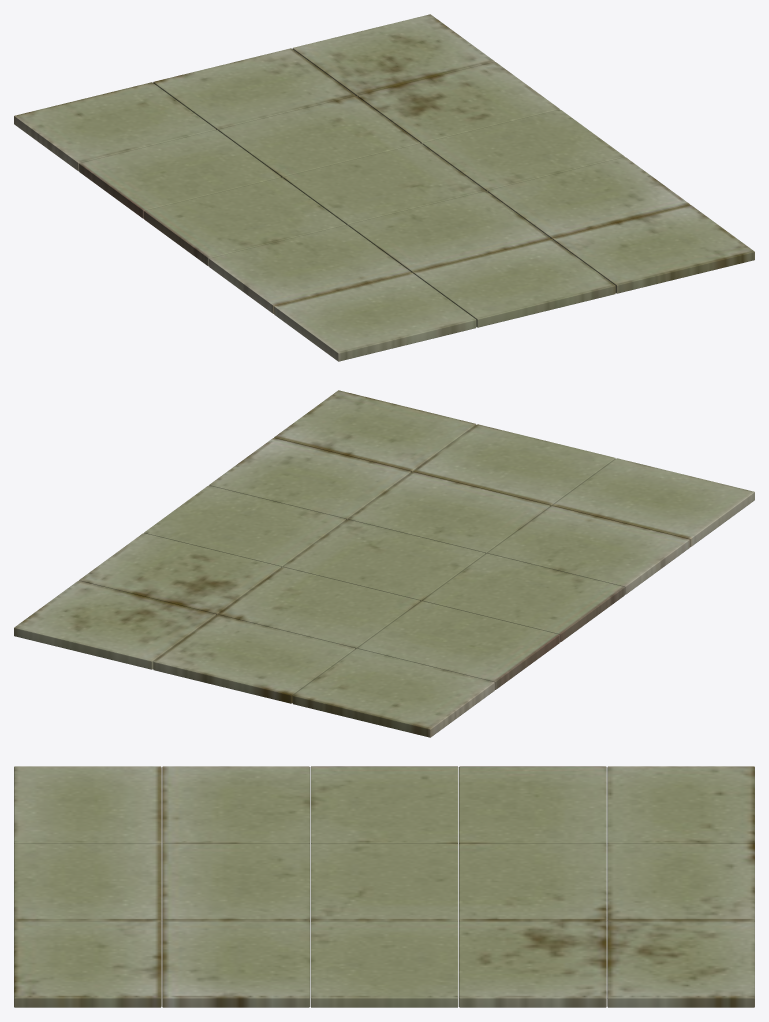
The model's file is Bathroom_Floor.fbx.
The picture shows the model from 3 angles, top to bottom: view 1: azimuth 30°, elevation 25°; view 2: azimuth 150°, elevation 25°; view 3: azimuth 270°, elevation 25°; orthographic projection. The views are drawn at different scales.
Visible parts, largest first — view 1: defaultMaterial.014; view 2: defaultMaterial.014; view 3: defaultMaterial.014.
Boxes of the visible parts, x1,y1,x2,y2 form: defaultMaterial.014: (14, 14, 754, 361); defaultMaterial.014: (14, 390, 754, 737); defaultMaterial.014: (14, 766, 754, 1007).
Size of the model in its own units: 106 by 2.17 by 143.
Materials: 1 (1 with a texture image).
